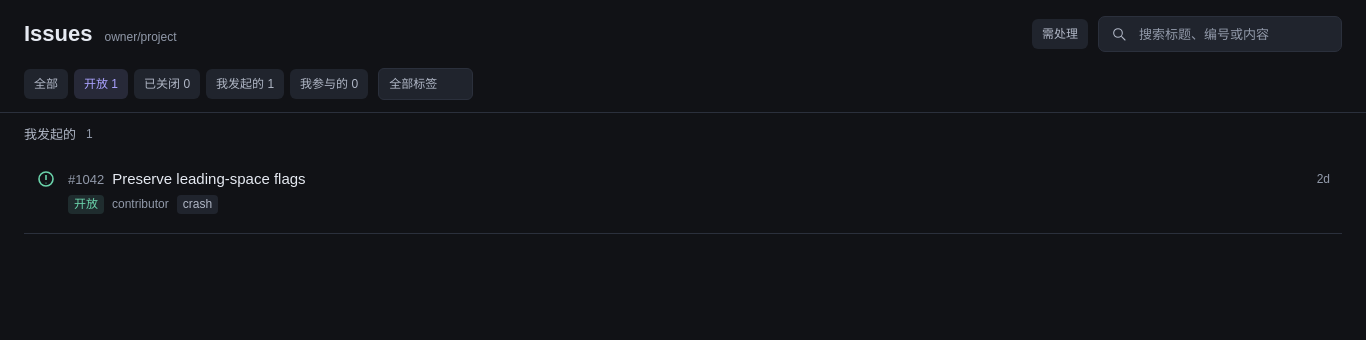
Test: activity empty-state recovery › clears search and labels when requesting all records
This screenshot has width=1366, height=340.
Select "crash" in the dropdown named "标签". click: {"x": 426, "y": 84}
box: [378,68,473,100]
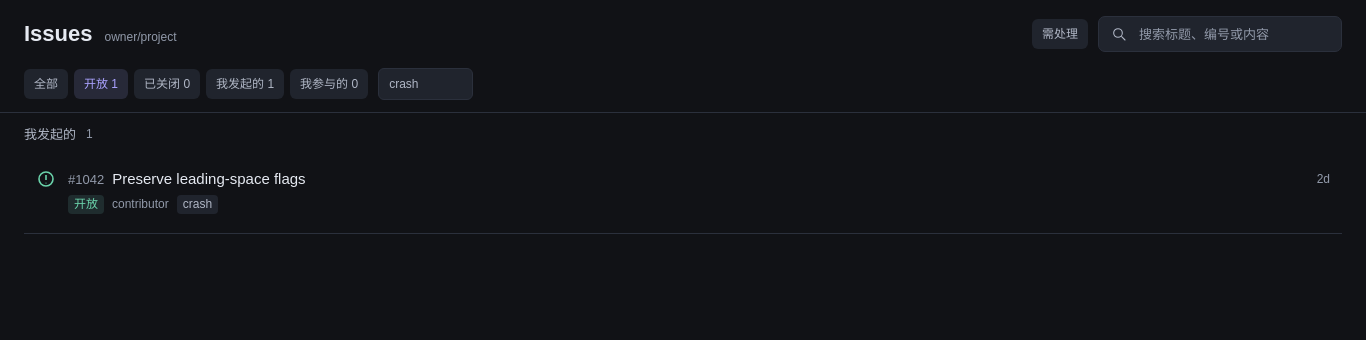
Type "missing" into the field named "搜索协作记录". click: {"x": 1233, "y": 34}
box: [1137,26,1329,42]
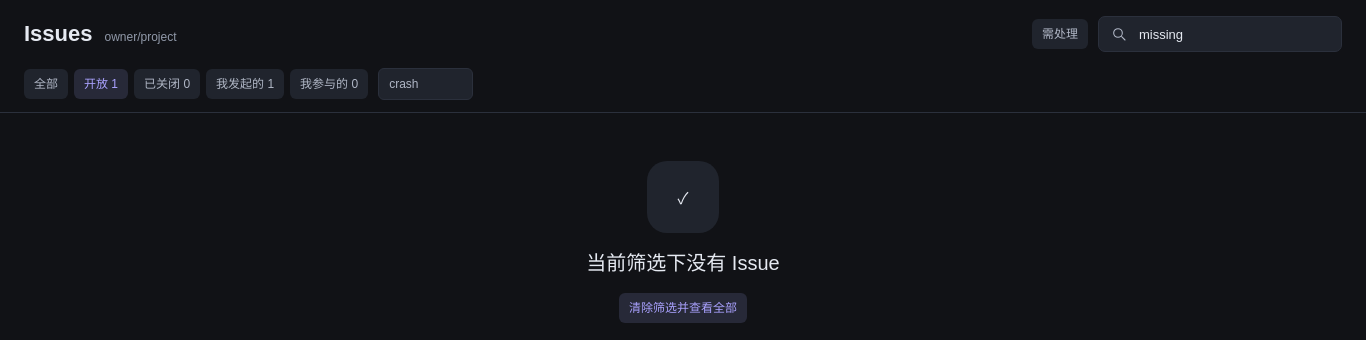
Click the button "清除筛选并查看全部". click: {"x": 683, "y": 308}
box: [619,293,747,323]
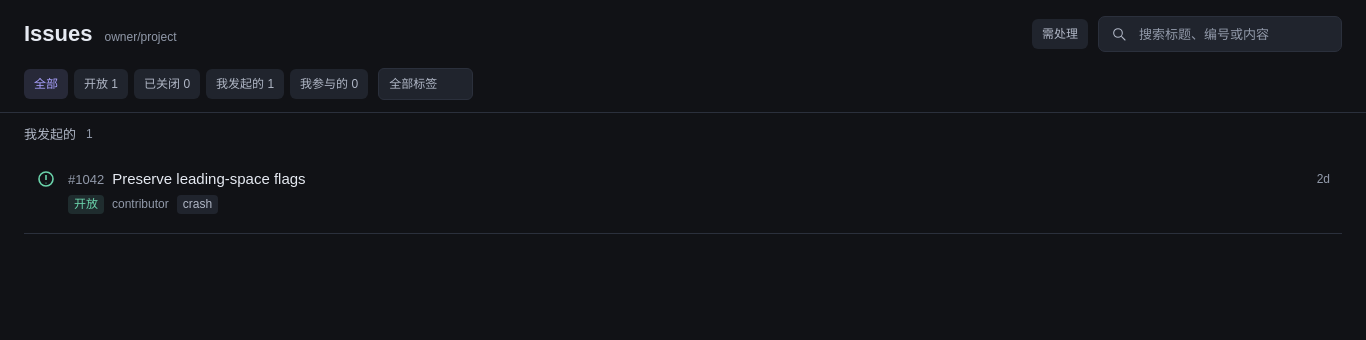
Expected: the field named "搜索协作记录" is empty, [1137,26,1329,42]
Expected: the button "#1042 Preserve leading-space flags 开放 contributor crash 2d" is shown, [24,155,1342,233]
